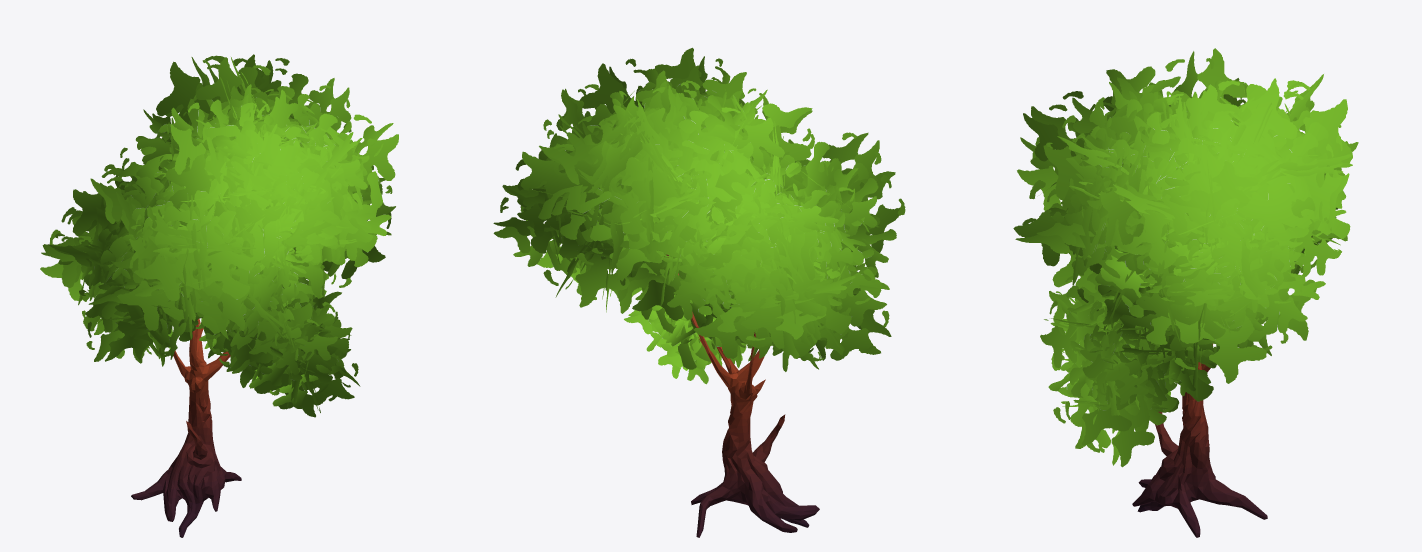
File: 03_Simple_Tree_10_1_5k_002.fbx
3 renders of one model, left to right at view 1: azimuth 30°, elevation 25°; view 2: azimuth 150°, elevation 25°; view 3: azimuth 270°, elevation 25°, orthographic. The views are drawn at different scales.
Visible parts, largest first — view 1: 03 Simple Tree 10_1_5k.002; view 2: 03 Simple Tree 10_1_5k.002; view 3: 03 Simple Tree 10_1_5k.002.
Part boxes in pixels (left/top/right/bottom): 03 Simple Tree 10_1_5k.002: left=40, top=54, right=398, bottom=537; 03 Simple Tree 10_1_5k.002: left=493, top=47, right=905, bottom=537; 03 Simple Tree 10_1_5k.002: left=1013, top=48, right=1358, bottom=537.
Bounding box in the file's own units: 1373 × 1514 × 1101.
